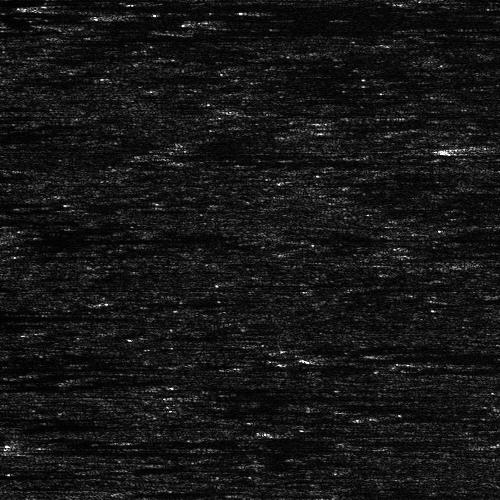rock: (0, 439, 145, 460), (0, 2, 77, 11), (0, 233, 51, 246), (92, 12, 175, 19), (479, 34, 500, 53), (459, 145, 490, 154), (313, 356, 354, 361), (482, 306, 500, 315), (162, 394, 203, 397), (199, 23, 230, 26)
shadow: (36, 439, 351, 460), (36, 2, 363, 11), (25, 233, 224, 246), (134, 12, 471, 19), (334, 356, 500, 361), (215, 23, 489, 26), (183, 394, 448, 397), (0, 313, 141, 318), (475, 145, 500, 154)
